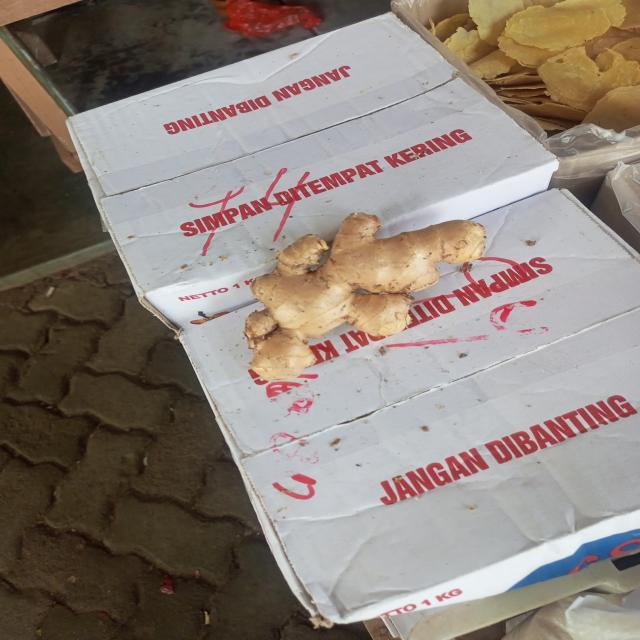ginger: (252, 214, 484, 375)
